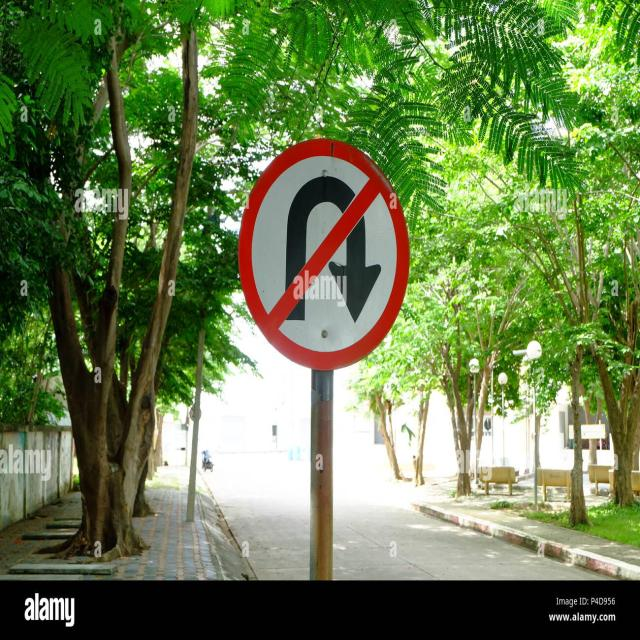Demi-Tour-Interdit: (246, 129, 408, 375)
